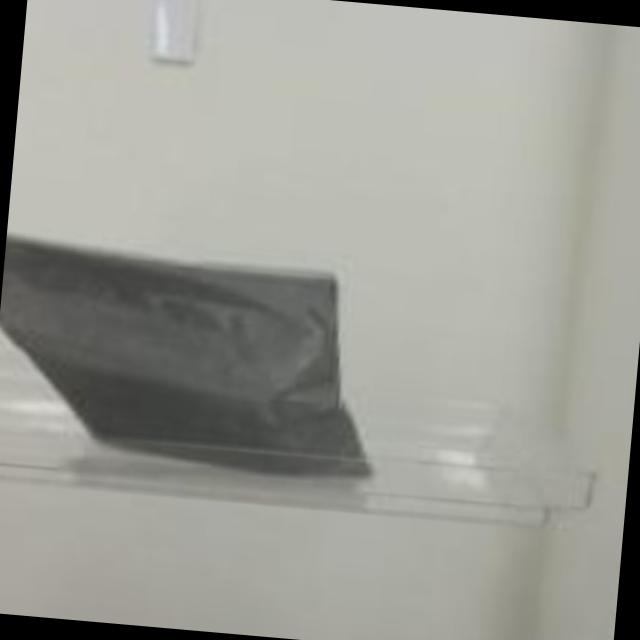mailer: (0, 228, 385, 495)
